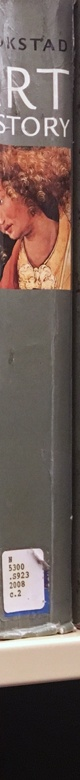call_number: (3, 547, 44, 613)
